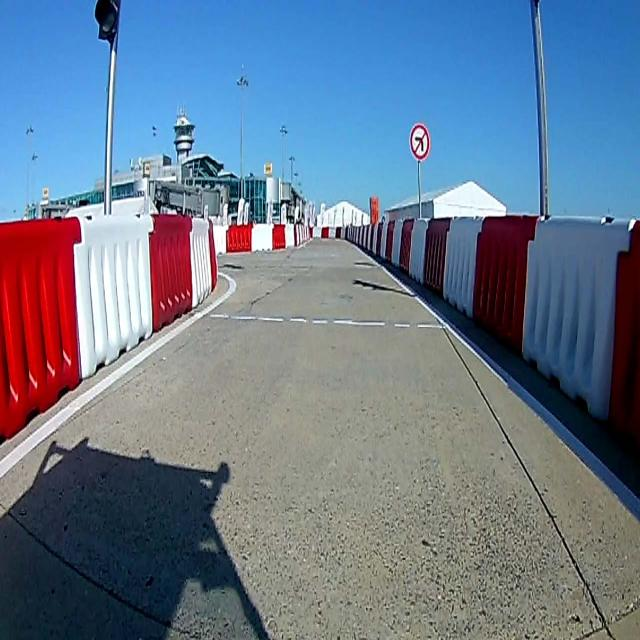soladonulmez: (410, 122, 430, 158)
